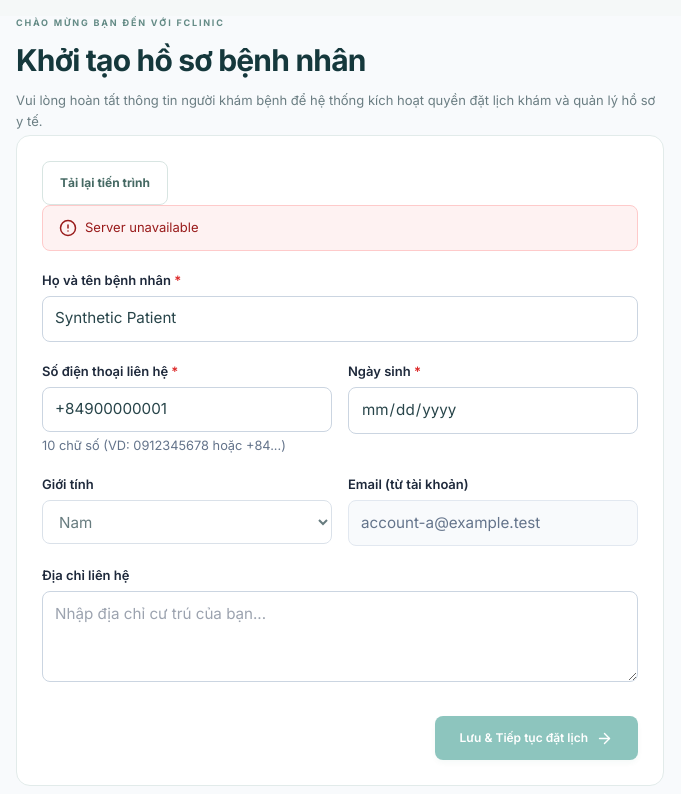
blocks creation until current server progress can be read
This screenshot has width=681, height=794.
Check: the text "Server unavailable" is shown, box [85,218,198,238]
Check: the button "Lưu & Tiếp tục đặt lịch" is disabled, box [435,716,638,760]
Click the button "Tải lại tiến trình" at {"x": 105, "y": 183}, box [42,161,168,205]
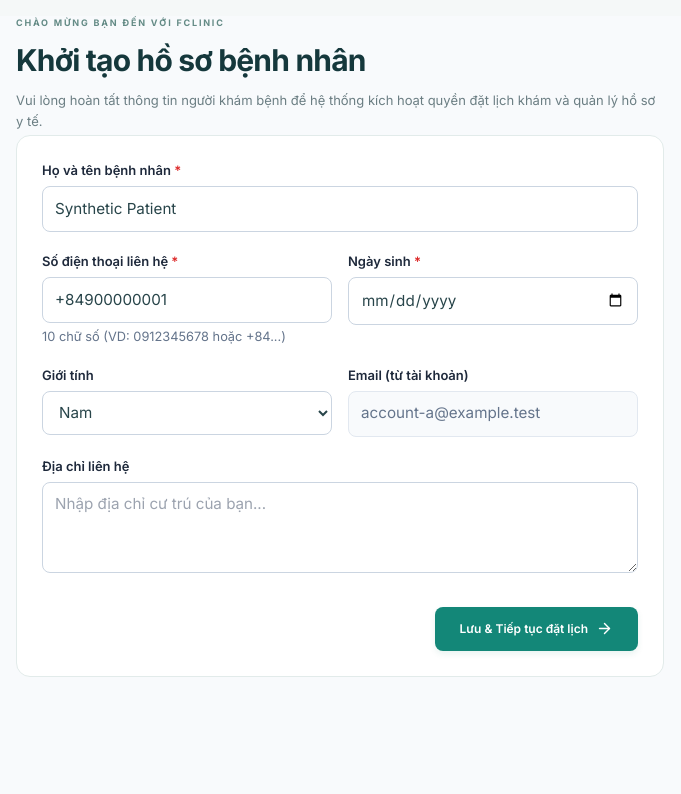
Check: the button "Lưu & Tiếp tục đặt lịch" is enabled, box [435,607,638,651]
